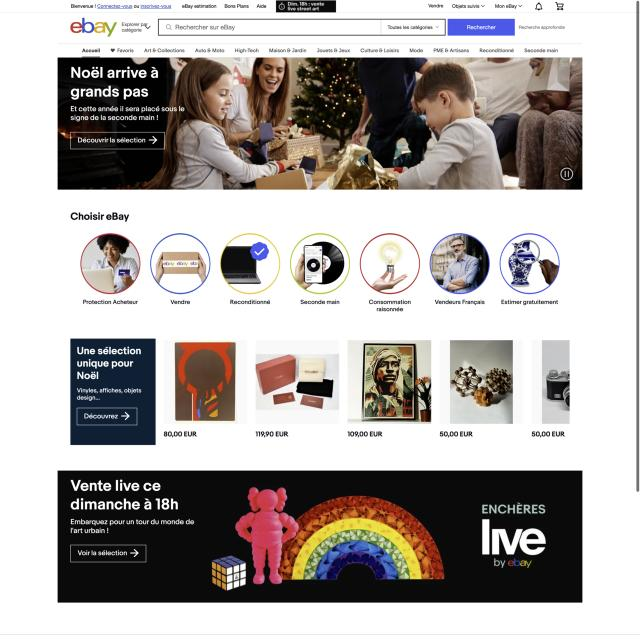input: (157, 17, 446, 37)
logo: (68, 15, 119, 40)
navigation: (81, 45, 560, 57), (69, 1, 268, 11), (425, 2, 568, 11)
